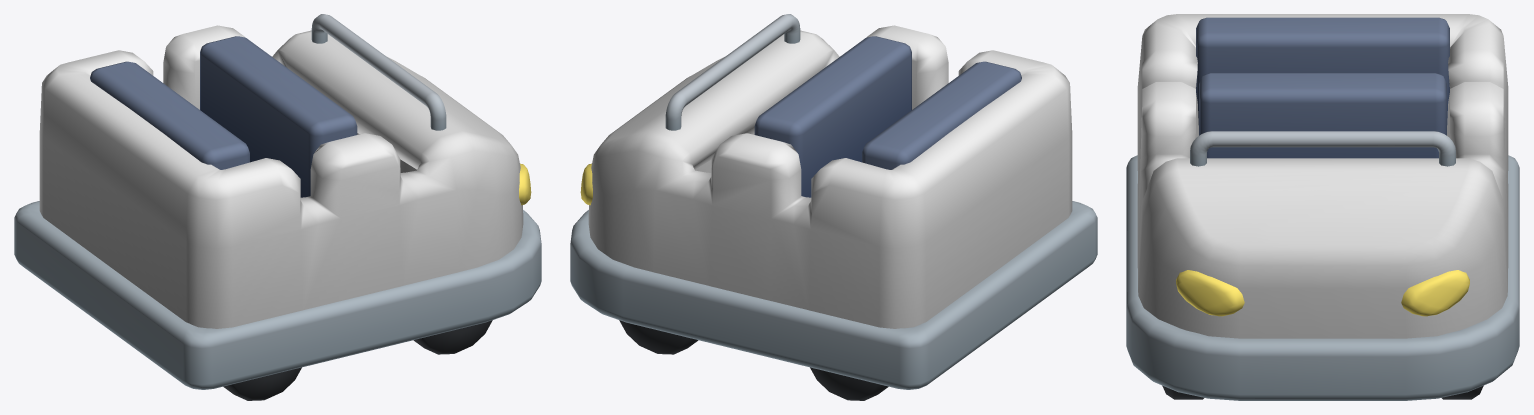
File: Vagon.fbx
3 renders of one model, left to right at view 1: azimuth 30°, elevation 25°; view 2: azimuth 150°, elevation 25°; view 3: azimuth 270°, elevation 25°, orthographic. The views are drawn at different scales.
Visible parts, largest first — view 1: Vagon; view 2: Vagon; view 3: Vagon.
Part boxes in pixels (x1,y1,x2,y2): Vagon: (14,14,541,400); Vagon: (570,14,1097,400); Vagon: (1126,14,1519,400).
Size of the model in its own units: 115 by 70.16 by 95.73.
